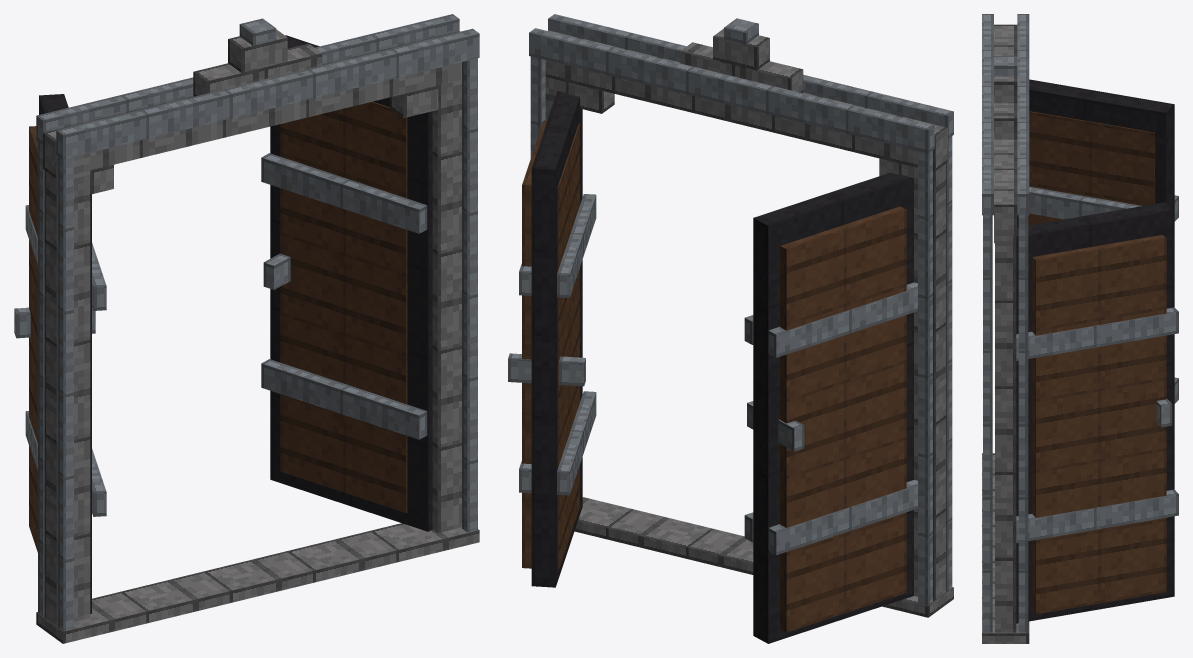
File: gothicDoubleRoomDoor.glb
3 renders of one model, left to right at view 1: azimuth 30°, elevation 25°; view 2: azimuth 150°, elevation 25°; view 3: azimuth 270°, elevation 25°, orthographic. The views are drawn at different scales.
Visible parts, largest first — view 1: DoorFrame, OpenDoorLeafRight, Threshold, OpenDoorLeafLeft; view 2: OpenDoorLeafLeft, DoorFrame, OpenDoorLeafRight, Threshold; view 3: OpenDoorLeafRight, DoorFrame, OpenDoorLeafLeft, Threshold.
Boxes of the visible parts, left/top/right/bottom form: DoorFrame: left=36, top=14, right=479, bottom=630; OpenDoorLeafRight: left=261, top=35, right=432, bottom=531; Threshold: left=36, top=523, right=479, bottom=643; OpenDoorLeafLeft: left=14, top=94, right=106, bottom=613; OpenDoorLeafLeft: left=744, top=172, right=917, bottom=643; DoorFrame: left=529, top=14, right=953, bottom=605; OpenDoorLeafRight: left=508, top=91, right=596, bottom=587; Threshold: left=574, top=497, right=953, bottom=617; OpenDoorLeafRight: left=1016, top=202, right=1178, bottom=623; DoorFrame: left=982, top=14, right=1029, bottom=632; OpenDoorLeafLeft: left=1017, top=79, right=1178, bottom=403; Threshold: left=982, top=453, right=1029, bottom=643.
Size of the model in its own units: 2.25 by 2.88 by 1.04.
Materials: 1 (1 with a texture image).
